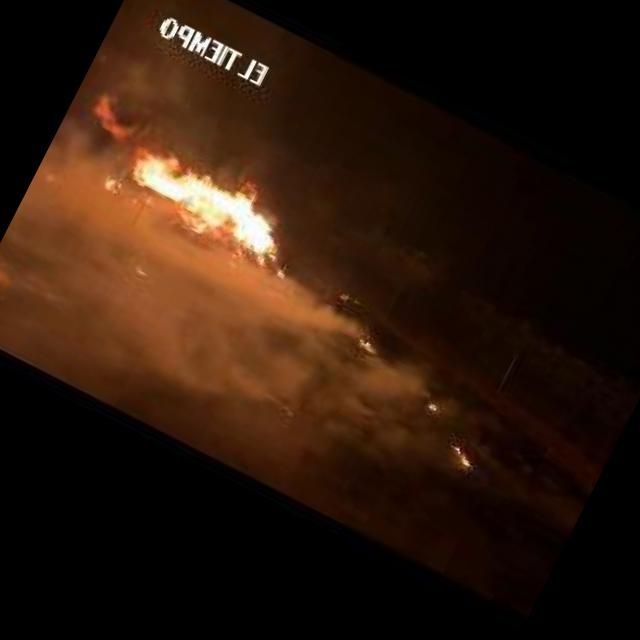fire: (63, 89, 314, 275), (446, 443, 475, 467), (356, 336, 378, 354), (0, 259, 8, 286), (340, 290, 352, 302), (429, 402, 440, 412), (276, 270, 286, 279)
